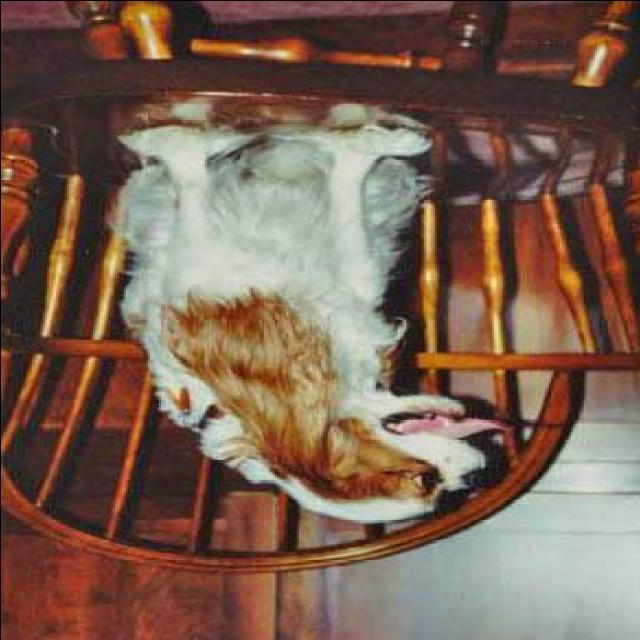blenheim_spaniel: (100, 126, 504, 528)
